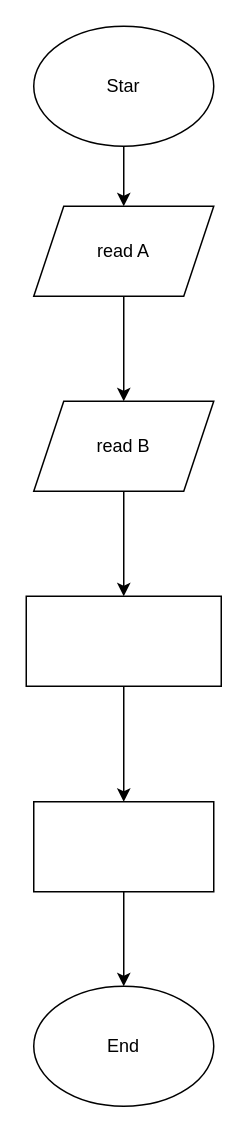
The diagram is 248 pixels wide and 1133 high, and some of its shapes have lost their labels. The shapes that lost their labels are listed below. From the top down, each one's box as (x1, y1, x2, y2) in pixels, then its label:
(25, 595, 221, 686): calculase Sum as A +B
(32, 800, 214, 892): Print Sum
